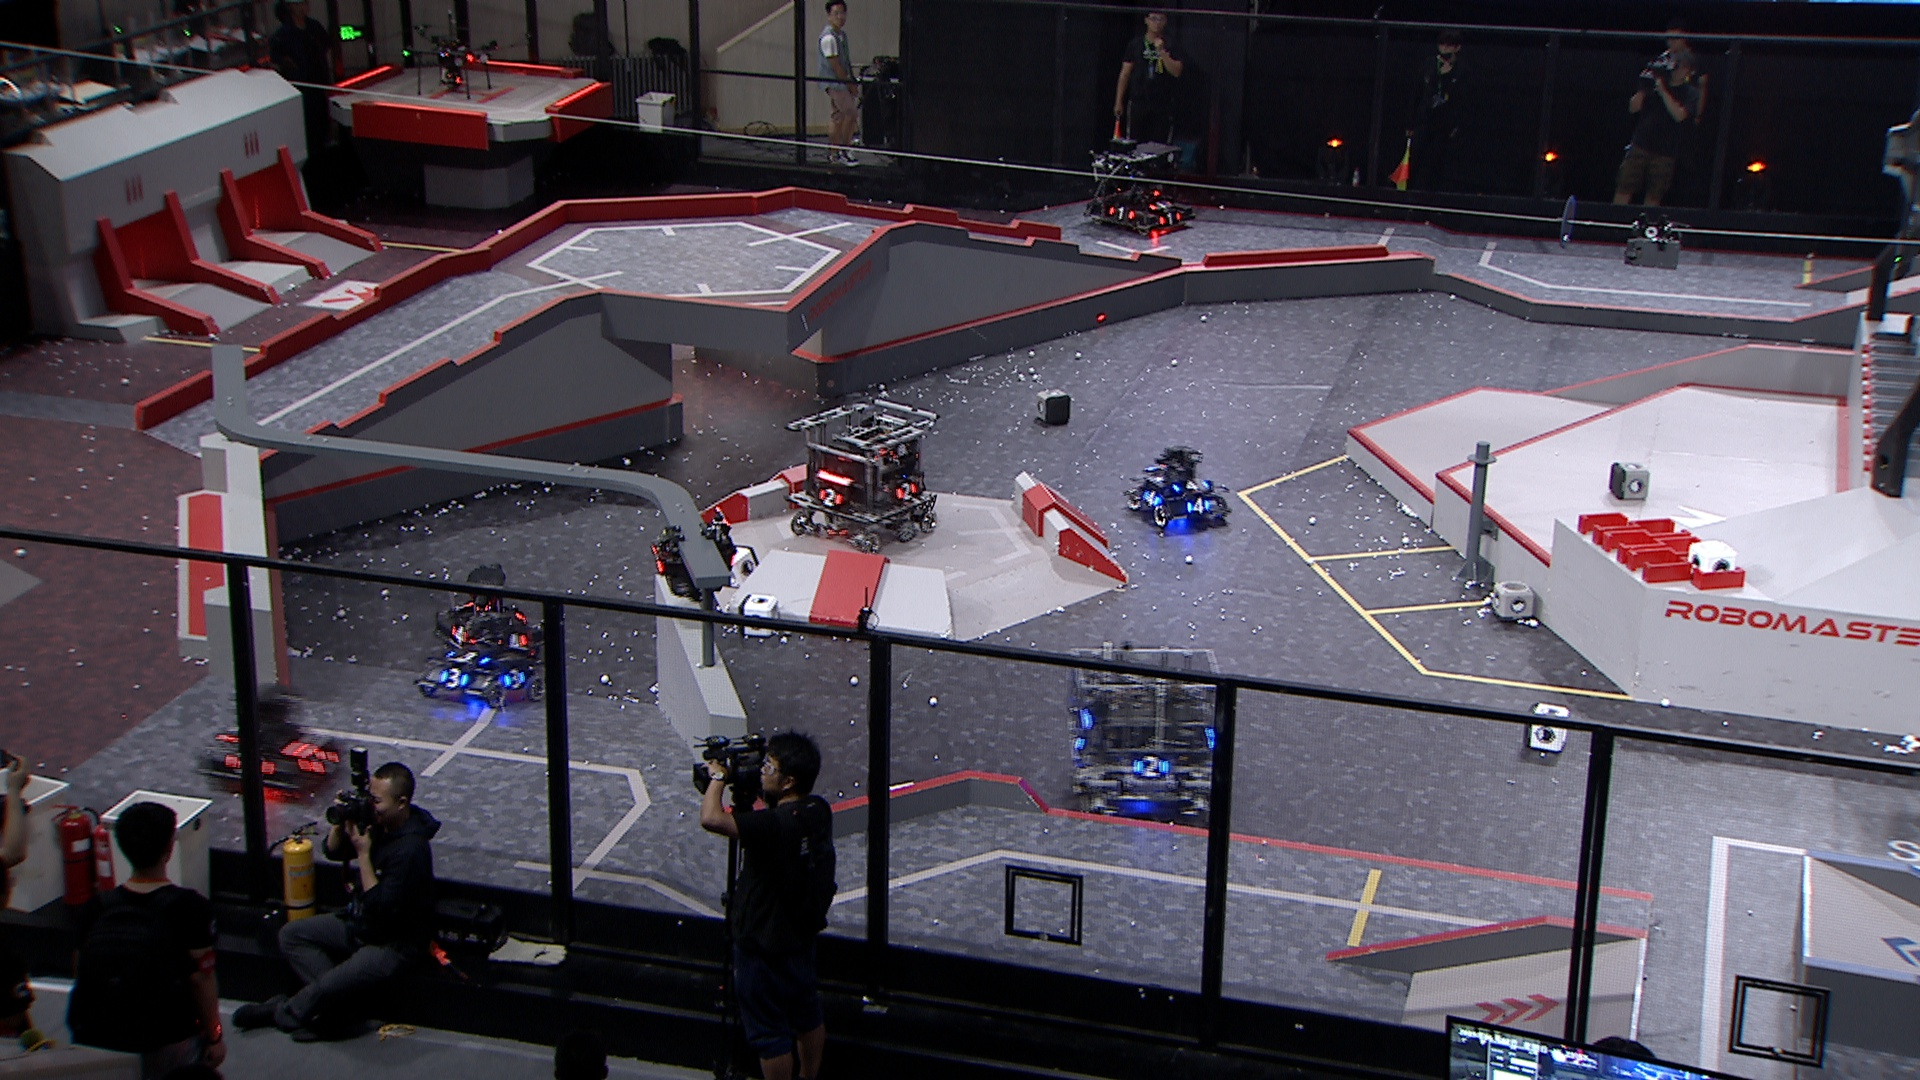armor: (295, 746, 339, 774), (1130, 752, 1171, 781), (446, 647, 491, 666), (439, 665, 472, 690), (501, 665, 527, 692), (1172, 479, 1212, 495), (647, 545, 667, 576), (818, 488, 845, 509), (1185, 495, 1211, 516), (496, 632, 527, 647), (447, 622, 468, 645), (1106, 204, 1135, 220), (1156, 208, 1183, 225), (895, 481, 916, 502), (1143, 491, 1160, 510), (1147, 199, 1174, 210)
car: (1059, 641, 1230, 827), (781, 392, 942, 556), (196, 680, 345, 798), (419, 609, 545, 713), (433, 556, 550, 665), (1083, 135, 1197, 233), (1120, 444, 1234, 531)
watcher: (645, 502, 740, 603)
